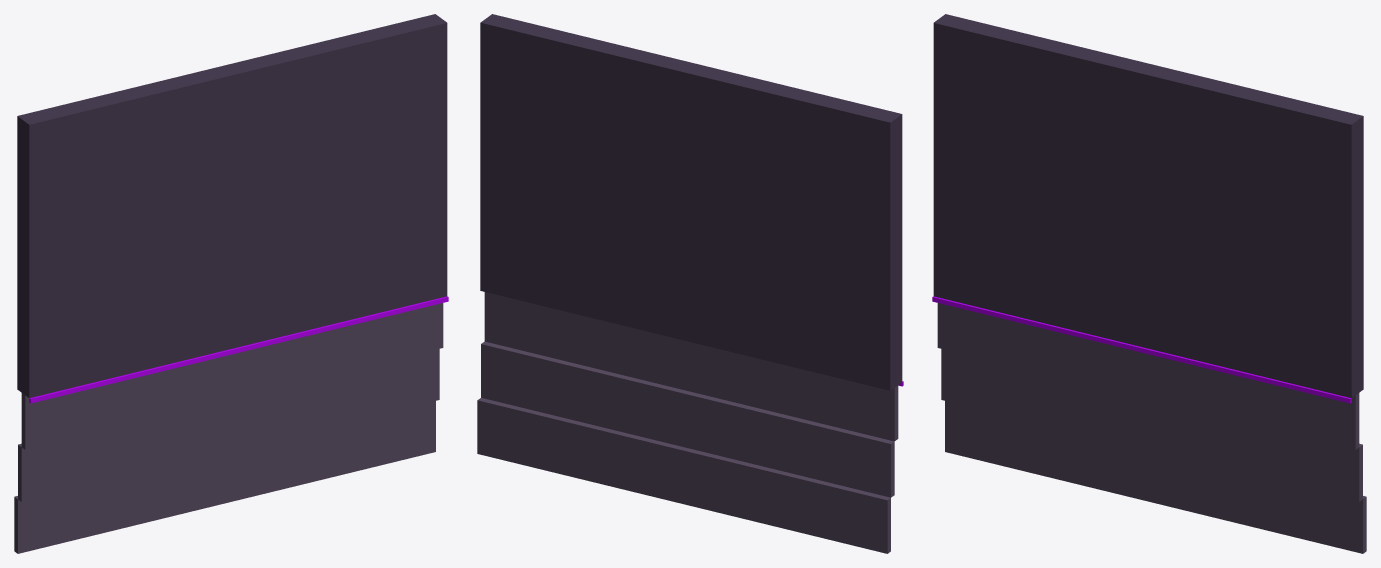
Rendered from stage.glb.
The picture shows the model from 3 angles, left to right: view 1: azimuth 30°, elevation 25°; view 2: azimuth 150°, elevation 25°; view 3: azimuth 330°, elevation 25°; orthographic projection.
Visible parts, largest first — view 1: world; view 2: world; view 3: world.
Part boxes in pixels (left/top/right/bottom): world: left=14, top=14, right=448, bottom=553; world: left=477, top=14, right=903, bottom=553; world: left=932, top=14, right=1366, bottom=553.
Size of the model in its own units: 4 by 4 by 0.27.
